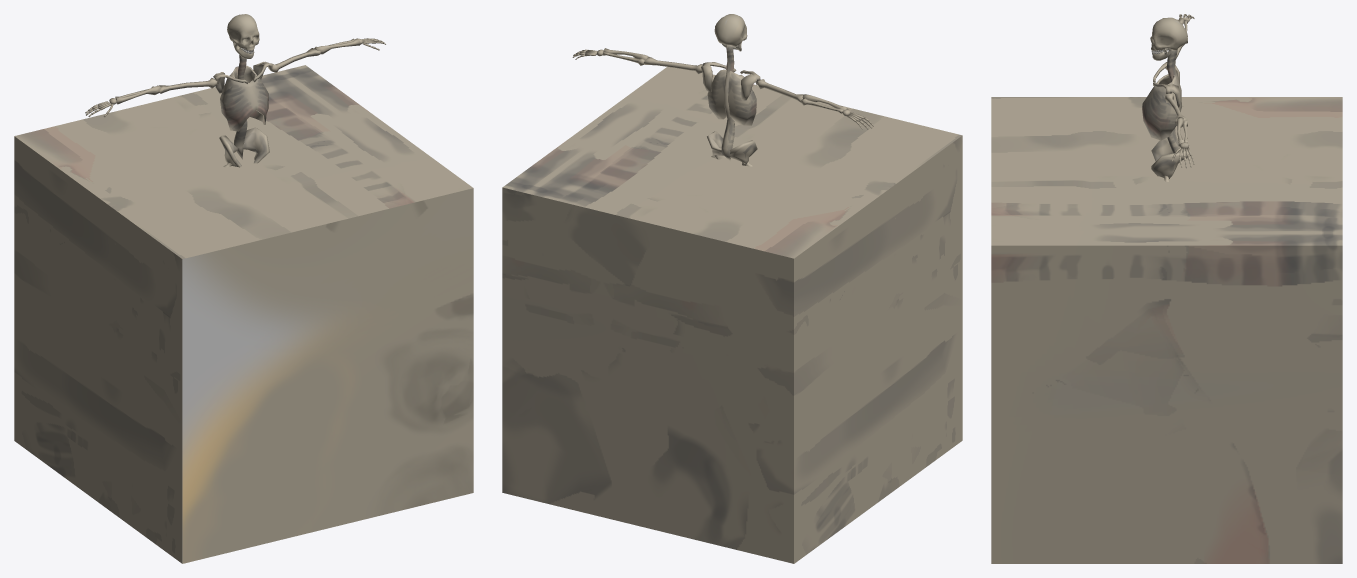
File: textures.glb
3 views of the same model, side by side, from view 1: azimuth 30°, elevation 25°; view 2: azimuth 150°, elevation 25°; view 3: azimuth 270°, elevation 25° (orthographic). The views are drawn at different scales.
Visible parts, largest first — view 1: Cube.002, Cube; view 2: Cube.002, Cube; view 3: Cube.002, Cube.
Boxes of the visible parts, <box> form: Cube.002: <box>14,65,473,563</box>; Cube: <box>85,14,385,167</box>; Cube.002: <box>502,67,962,563</box>; Cube: <box>572,14,873,166</box>; Cube.002: <box>991,97,1342,563</box>; Cube: <box>1142,14,1194,181</box>.
Size of the model in its own units: 2.05 by 2.95 by 2.
Materials: 2 (2 with a texture image).
